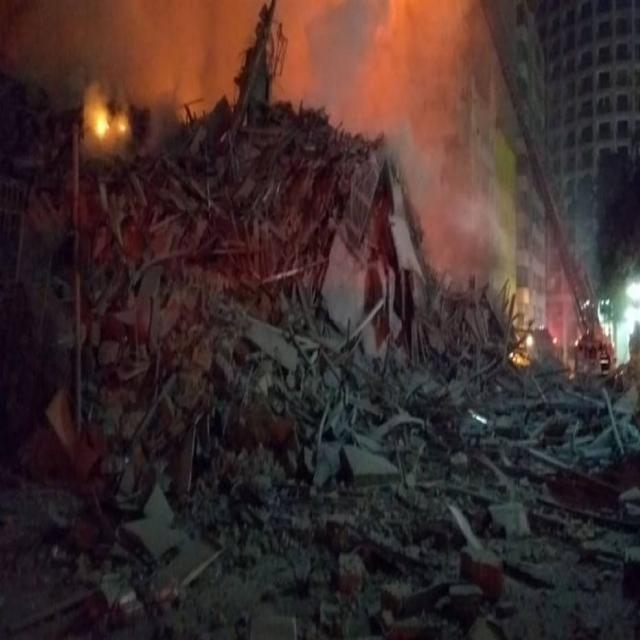Fire: (89, 105, 128, 136)
